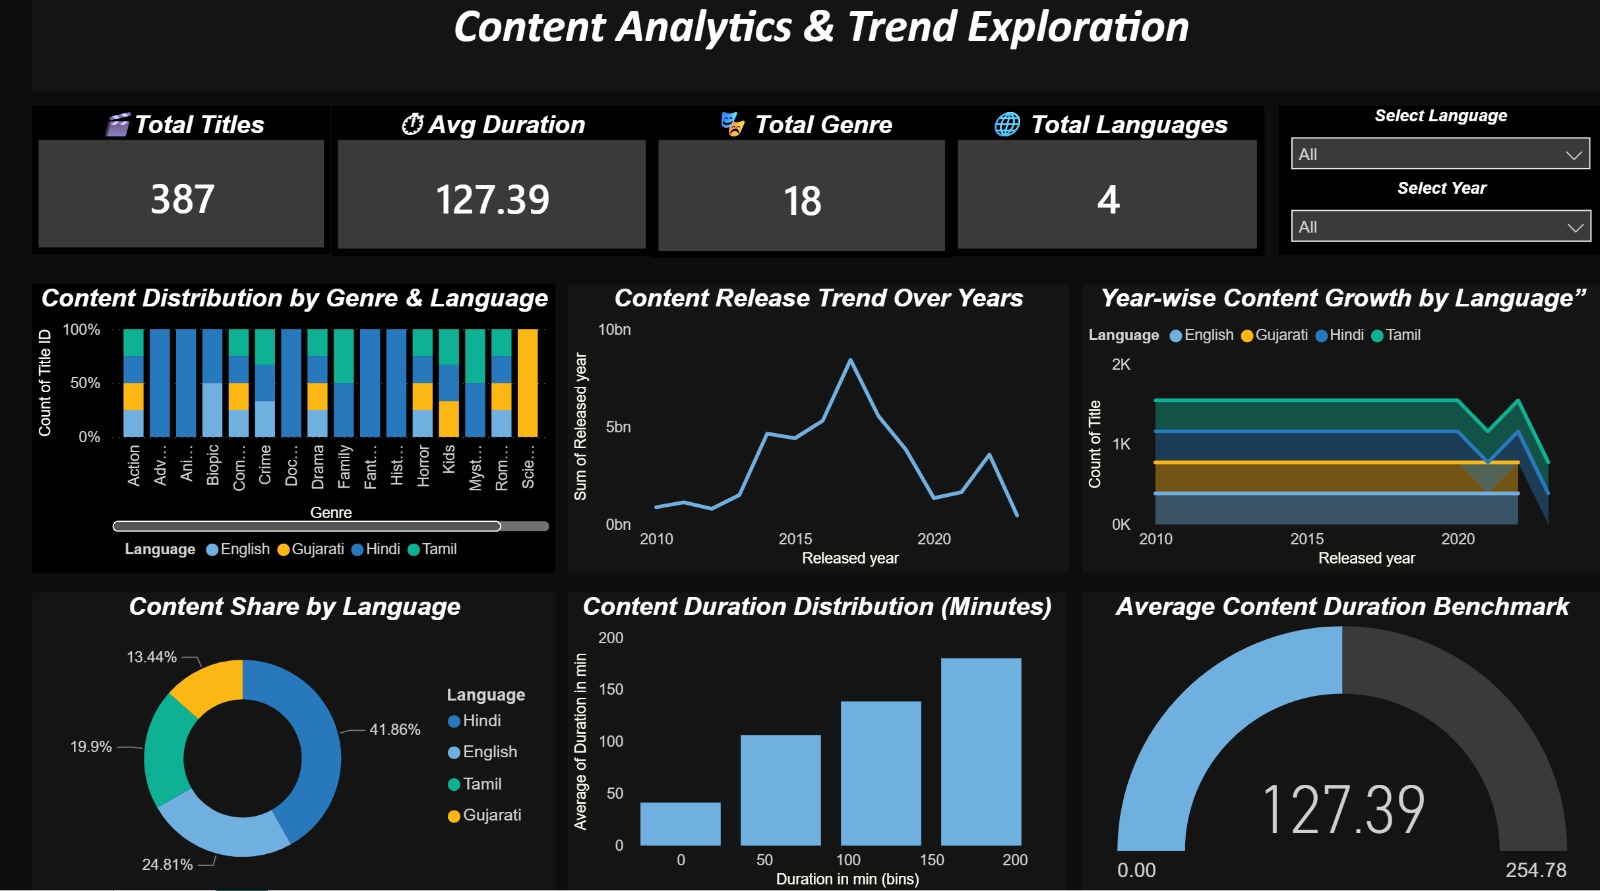

What the dashboard file says about the page in this screenshot:
{"tool":"powerbi","page":{"name":"Page 2","canvas":[1280,720],"ordinal":0},"visuals":[{"type":"cardVisual","title":"🎭 Total Genre","fields":{"Data":["Count(Genra ID.Genre)"]},"box":[521.4,93.1,239.7,121.1],"z":1000},{"type":"cardVisual","title":"🎬Total Titles","fields":{"Data":["Title ID.Total Titles"]},"box":[26.8,93.1,238.4,118.6],"z":1500},{"type":"cardVisual","title":"⏱ Avg Duration","fields":{"Data":["Duration ID.Avg Duration"]},"box":[265.2,93.1,256.3,119.8],"z":2000},{"type":"cardVisual","title":"🌐 Total Languages","fields":{"Data":["Count(Language ID.Language)"]},"box":[761.1,93.1,249.9,119.8],"z":3000},{"type":"hundredPercentStackedColumnChart","title":"Content Distribution by Genre & Language","fields":{"Category":["Genra ID.Genre"],"Y":["CountNonNull(Title ID.Title)"],"Series":["Language ID.Language"]},"box":[26.8,234.6,418.2,230.8],"z":4000},{"type":"lineChart","title":"Content Release Trend Over Years","fields":{"Category":["Year.Released year"],"Y":["Sum(Year.Released year)"]},"box":[453.9,234.6,400.3,230.8],"z":5000},{"type":"donutChart","title":"Content Share by Language","fields":{"Category":["Language ID.Language"],"Y":["CountNonNull(Language ID.Language ID)"]},"box":[26.8,481.9,418.2,243.5],"z":6000},{"type":"clusteredColumnChart","title":"Content Duration Distribution (Minutes)","fields":{"Category":["Duration ID.Duration in min (bins)"],"Y":["Avg(Duration ID.Duration in min)"]},"box":[453.9,481.9,397.8,241],"z":7000},{"type":"stackedAreaChart","title":"Year-wise Content Growth by Language”","fields":{"Category":["Year.Released year"],"Y":["CountNonNull(Title ID.Title)"],"Series":["Language ID.Language"]},"box":[865.7,234.6,415.6,230.8],"z":8000},{"type":"gauge","title":"Average Content Duration Benchmark","fields":{"Y":["Avg(Duration ID.Duration in min)"],"TargetValue":["CountNonNull(Genra ID.Genre)"]},"box":[865.7,481.9,415.6,239.7],"z":9000},{"type":"slicer","title":"Select Language","fields":{"Values":["Language ID.Language"]},"box":[1022.5,93.1,258.8,61.2],"z":10000},{"type":"slicer","title":"Select Year","fields":{"Values":["Year.Released year"]},"box":[1022.5,150.4,260.1,61.2],"z":11000},{"type":"textbox","box":[26.8,0,1253.2,81.6],"z":13000}]}

Visuals, with their boxes in screenshot pixels (x1, y1, x2, y2), scaled from the page's 1280x720 canvas onto the 1600x891 screenshot:
"🎭 Total Genre" cardVisual: locate(652, 115, 951, 265)
"🎬Total Titles" cardVisual: locate(34, 115, 332, 262)
"⏱ Avg Duration" cardVisual: locate(332, 115, 652, 263)
"🌐 Total Languages" cardVisual: locate(951, 115, 1264, 263)
"Content Distribution by Genre & Language" hundredPercentStackedColumnChart: locate(34, 290, 556, 576)
"Content Release Trend Over Years" lineChart: locate(567, 290, 1068, 576)
"Content Share by Language" donutChart: locate(34, 596, 556, 890)
"Content Duration Distribution (Minutes)" clusteredColumnChart: locate(567, 596, 1065, 890)
"Year-wise Content Growth by Language”" stackedAreaChart: locate(1082, 290, 1599, 576)
"Average Content Duration Benchmark" gauge: locate(1082, 596, 1599, 890)
"Select Language" slicer: locate(1278, 115, 1599, 191)
"Select Year" slicer: locate(1278, 186, 1599, 262)
textbox: locate(34, 0, 1599, 101)
